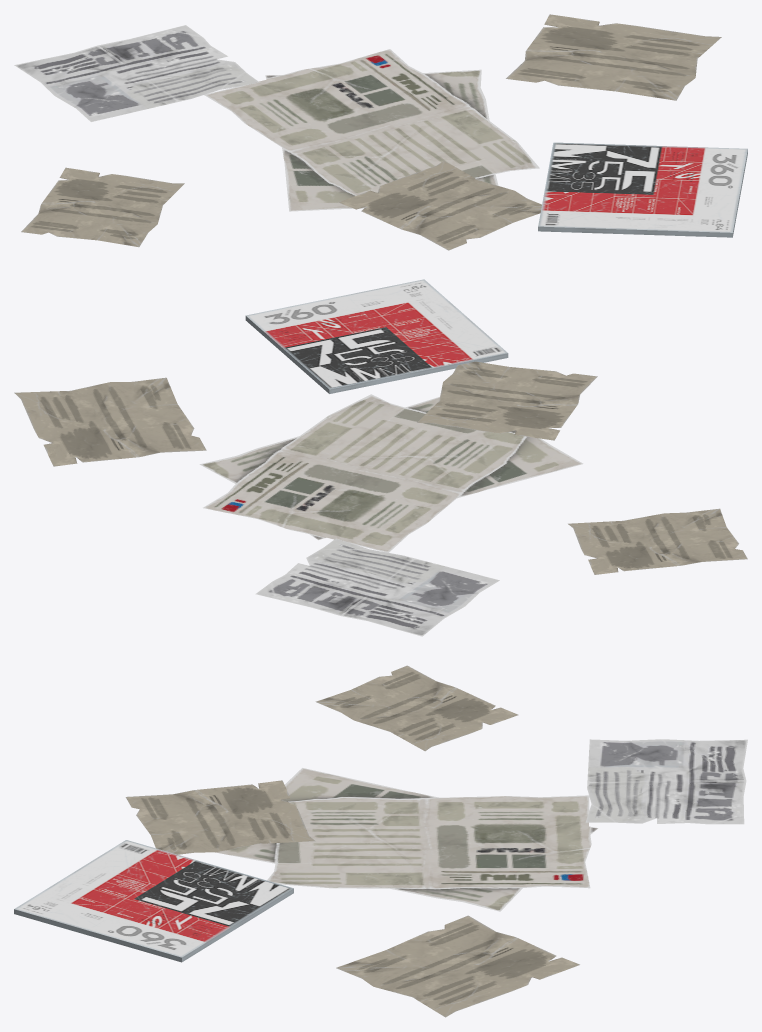
The model's file is P_NEWMaket01_after20.obj.
3 renders of one model, top to bottom at view 1: azimuth 30°, elevation 25°; view 2: azimuth 150°, elevation 25°; view 3: azimuth 270°, elevation 25°, orthographic. The views are drawn at different scales.
Bounding box in the file's own units: 2.12 × 0.0391 × 1.83.
Materials: 6 (6 with a texture image).
